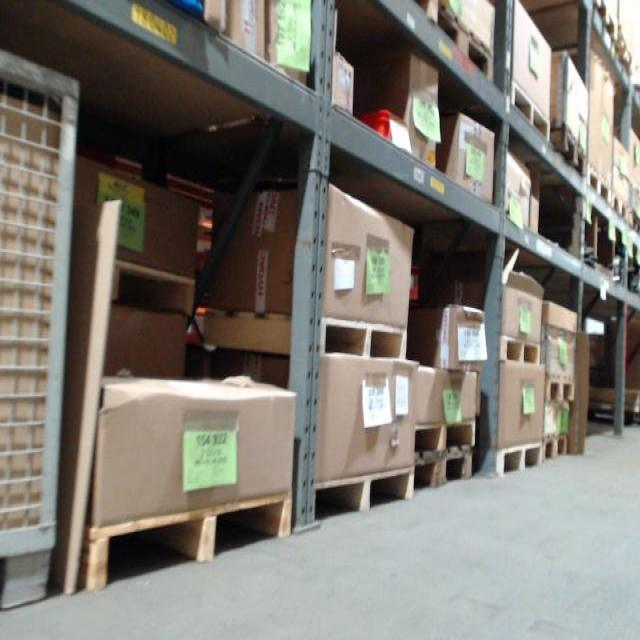pallet: (78, 489, 295, 593), (198, 303, 412, 362), (100, 250, 204, 321), (312, 462, 420, 521), (434, 8, 493, 82), (407, 446, 474, 496), (480, 438, 545, 485), (508, 75, 552, 136), (410, 412, 476, 450), (552, 120, 590, 182), (479, 333, 541, 367), (578, 1, 619, 50), (584, 161, 614, 211), (542, 377, 577, 406), (611, 188, 632, 229), (544, 433, 568, 459)
small_load_carrier: (358, 109, 405, 145)
stillage: (1, 46, 80, 606)
